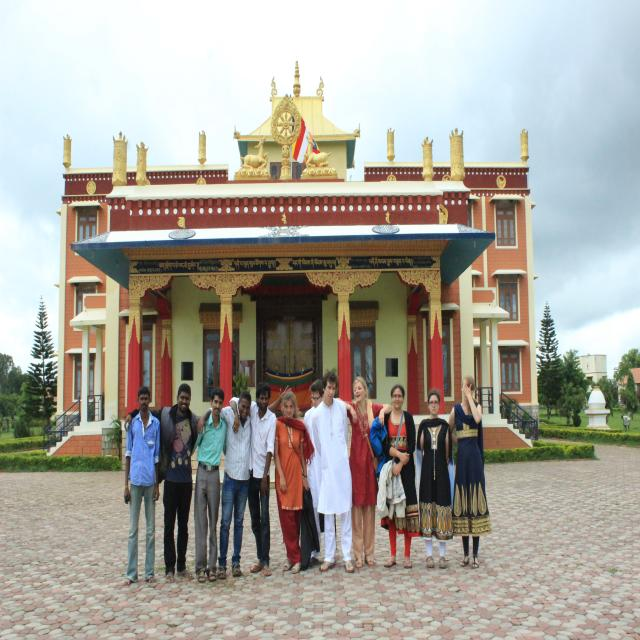body: (196, 384, 291, 580), (125, 384, 202, 583), (336, 376, 394, 569), (229, 380, 277, 577), (448, 374, 492, 570), (312, 371, 354, 572), (378, 383, 421, 570), (122, 384, 161, 587), (273, 390, 315, 574), (190, 387, 228, 583), (416, 389, 454, 569), (304, 379, 324, 566), (208, 357, 222, 395), (621, 414, 630, 432)
